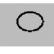no answer: (17, 9, 47, 33)
